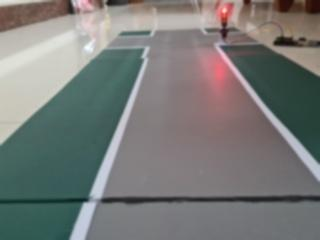red: (214, 5, 233, 34)
